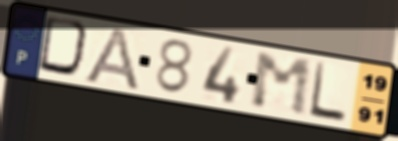4: (199, 43, 245, 107)
8: (152, 37, 196, 96)
A: (80, 25, 142, 93)
D: (34, 13, 96, 81)
L: (306, 59, 349, 125)
M: (250, 51, 314, 119)
